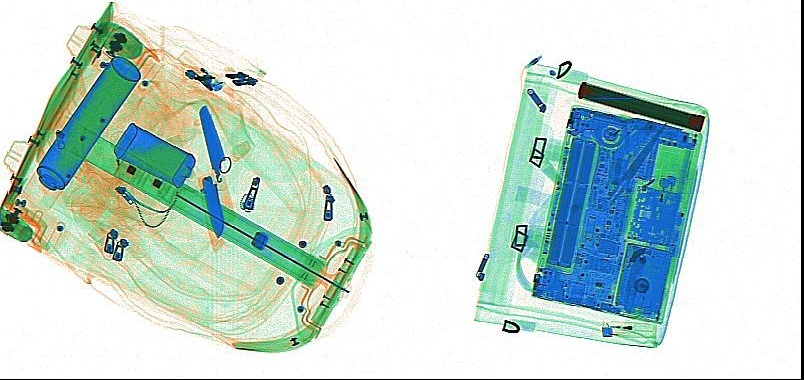knife: (195, 105, 233, 223), (197, 172, 224, 242)
pressure: (35, 53, 142, 192)
scissors: (595, 120, 669, 211)
zippooil: (113, 122, 195, 187)
